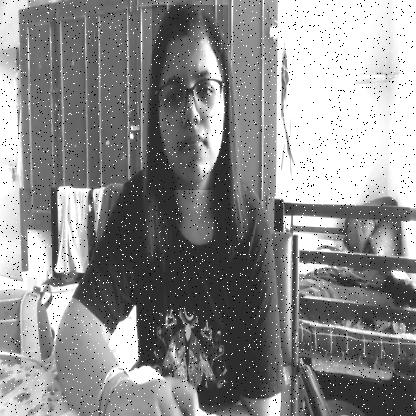Normal: (152, 5, 228, 190)
